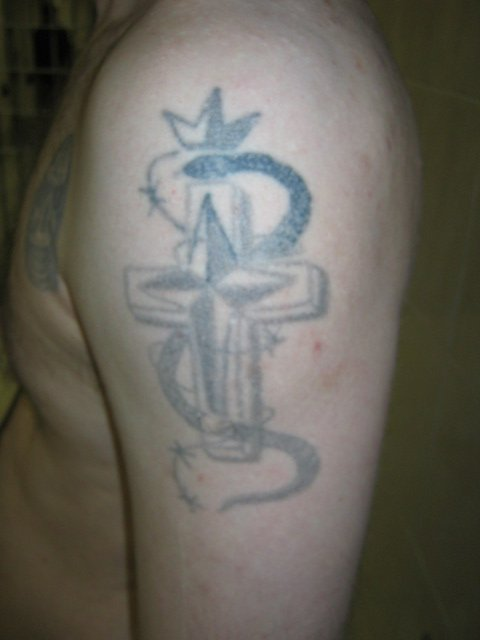tatu9_krest: (120, 82, 345, 517)
